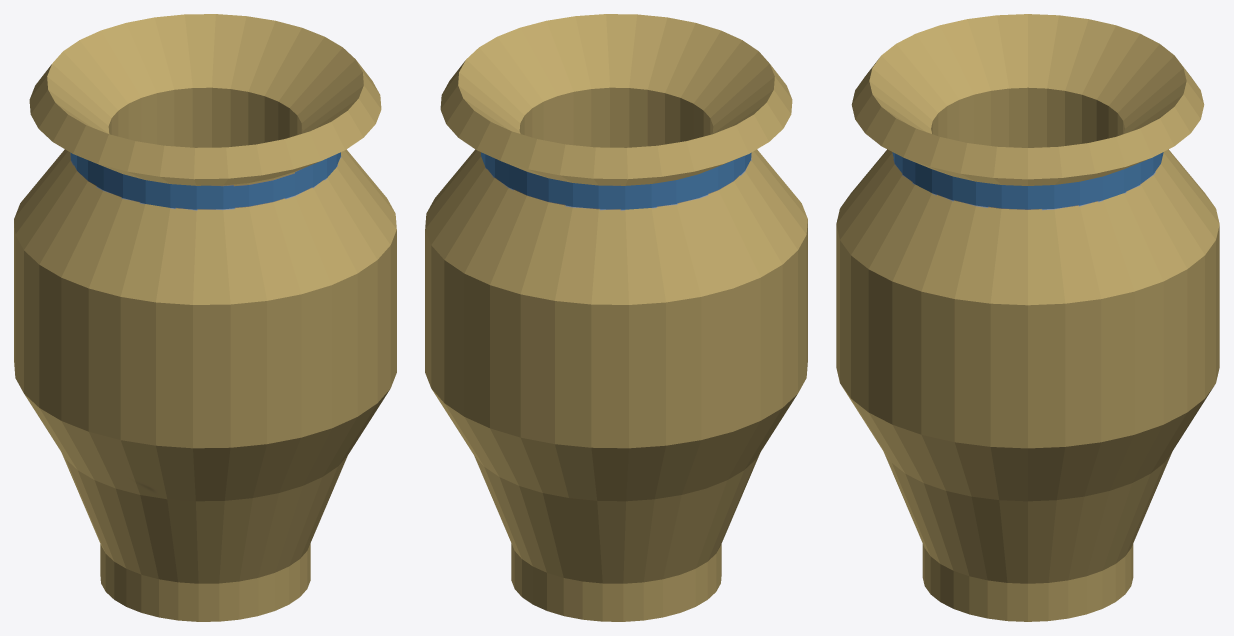
File: pot_1.glb
3 renders of one model, left to right at view 1: azimuth 30°, elevation 25°; view 2: azimuth 150°, elevation 25°; view 3: azimuth 270°, elevation 25°, orthographic.
Visible parts, largest first — view 1: Cube; view 2: Cube; view 3: Cube.
Boxes of the visible parts, x1=… form: Cube: x1=14, y1=14, x2=396, y2=621; Cube: x1=425, y1=14, x2=807, y2=621; Cube: x1=836, y1=14, x2=1219, y2=621.
Bounding box in the file's own units: 1.46 × 2.08 × 1.46.
1 material, 1 textured.
